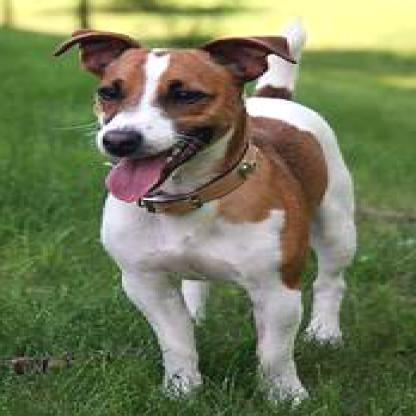dog: (51, 19, 364, 413)
